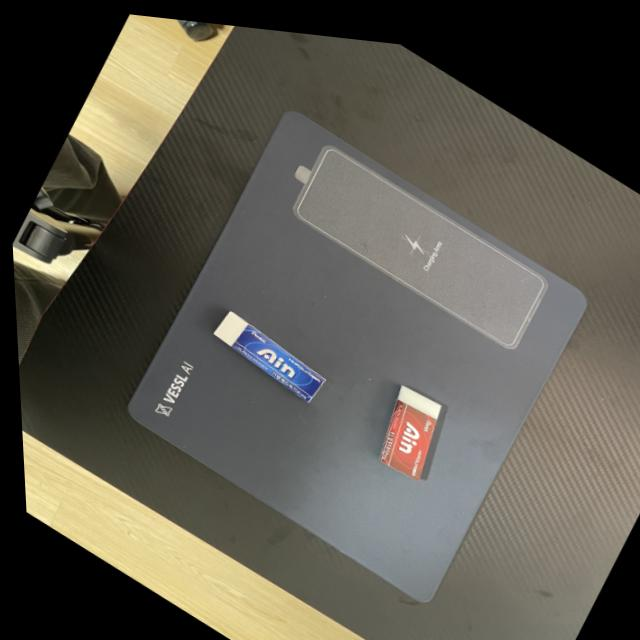blue: (193, 292, 332, 407)
red: (347, 360, 461, 488)
